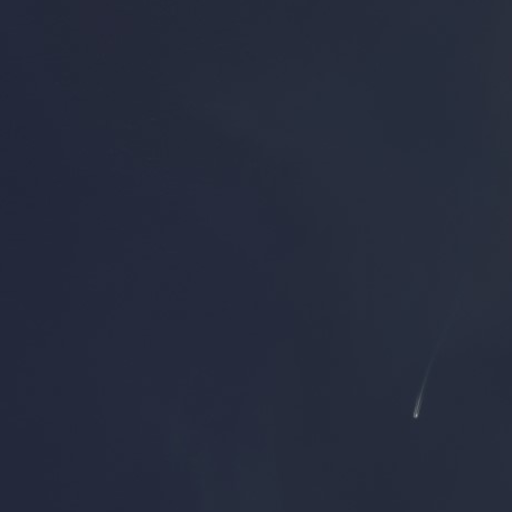ship: (410, 406, 424, 421)
